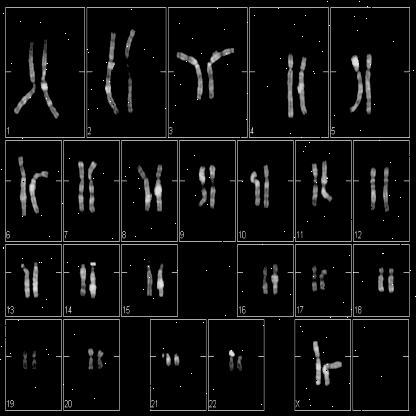1: (38, 33, 60, 123), (14, 40, 37, 118)
10: (261, 161, 273, 216), (248, 166, 262, 212)
11: (320, 154, 333, 208), (310, 156, 318, 212)
12: (367, 160, 379, 218), (379, 159, 391, 217)
13: (18, 260, 31, 302), (30, 260, 42, 302)
14: (76, 255, 88, 305), (88, 254, 100, 304)
15: (144, 256, 154, 300), (156, 256, 165, 300)
16: (260, 259, 270, 300), (270, 259, 280, 300)
17: (308, 258, 320, 296), (318, 258, 329, 297)
18: (386, 264, 397, 298), (376, 264, 386, 298)
19: (20, 345, 29, 376), (30, 345, 39, 376)
2: (104, 26, 122, 120), (122, 25, 140, 119)
20: (86, 342, 95, 375), (96, 342, 104, 376)
21: (158, 348, 170, 369), (172, 350, 184, 370)
22: (228, 344, 235, 377), (236, 344, 243, 377)
3: (206, 44, 238, 102), (174, 48, 205, 102)
4: (296, 49, 312, 119), (285, 46, 294, 122)
5: (363, 52, 379, 116), (348, 52, 364, 114)
6: (29, 150, 50, 221), (16, 151, 28, 221)
7: (75, 158, 87, 216), (86, 158, 98, 216)
8: (135, 157, 154, 216), (153, 158, 167, 216)
9: (196, 159, 208, 218), (208, 158, 219, 218)
X: (321, 332, 343, 393), (310, 332, 322, 393)
